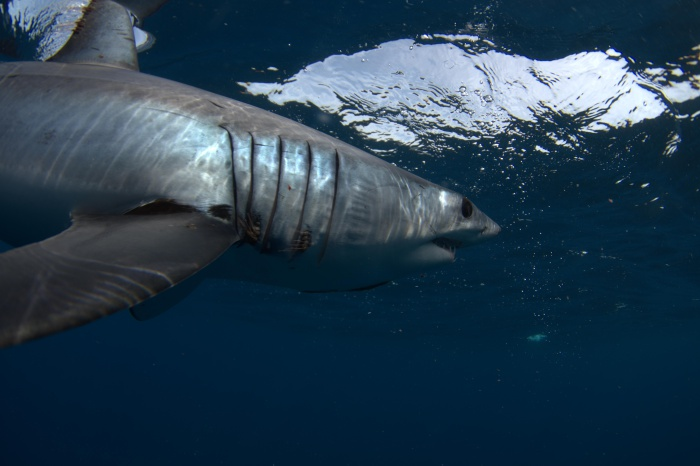Mako: (1, 1, 520, 361)
